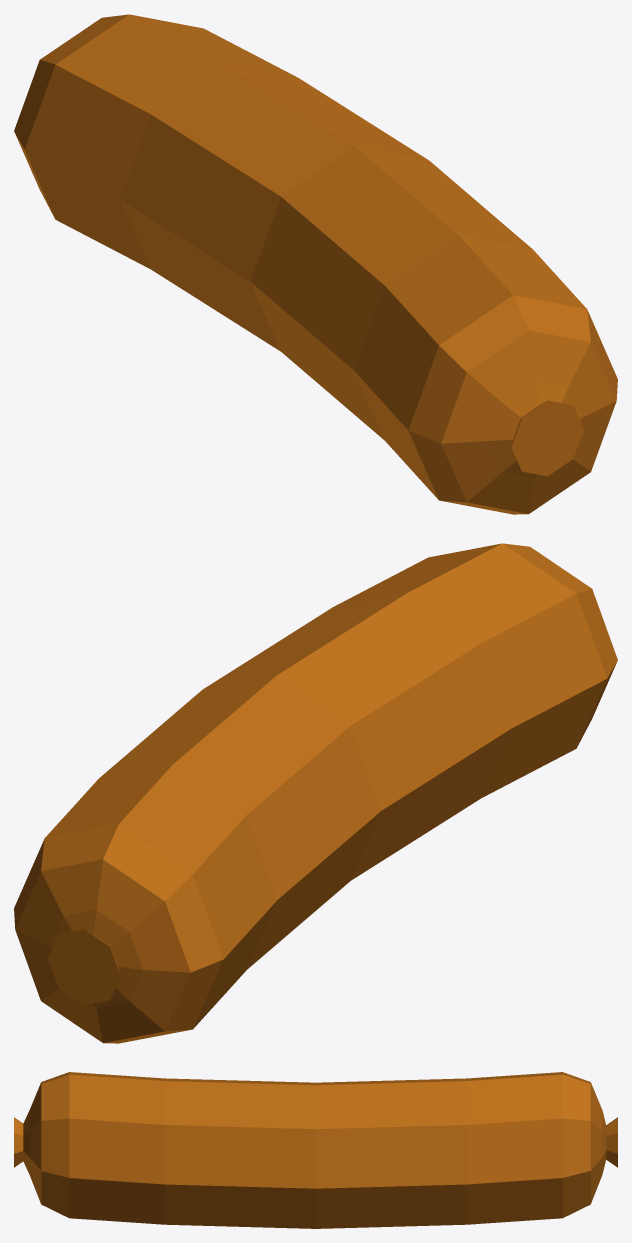
Rendered from Meat Sausage 01.fbx.
3 views of the same model, one above another, from view 1: azimuth 30°, elevation 25°; view 2: azimuth 150°, elevation 25°; view 3: azimuth 270°, elevation 25° (orthographic). The views are drawn at different scales.
Visible parts, largest first — view 1: Sausage 01; view 2: Sausage 01; view 3: Sausage 01.
Part boxes in pixels (bbox=[...]): Sausage 01: bbox=[14, 14, 617, 514]; Sausage 01: bbox=[14, 543, 617, 1043]; Sausage 01: bbox=[14, 1072, 617, 1228].
Bounding box in the file's own units: 17.21 × 14.81 × 57.45.
